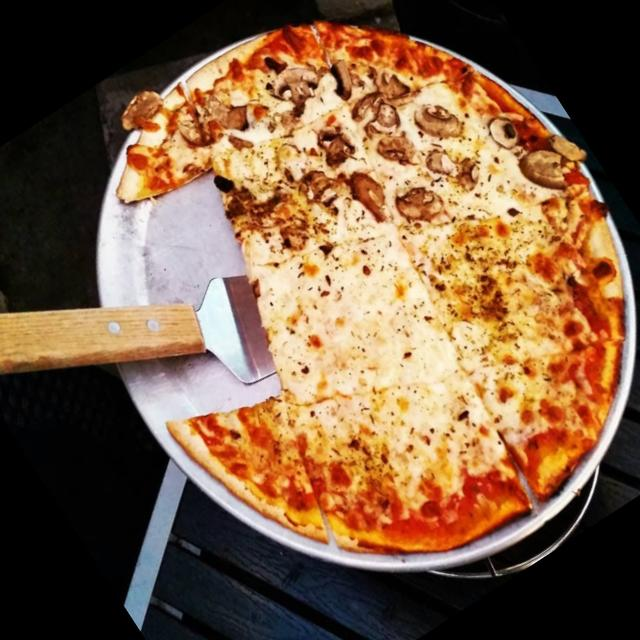mushrooms: (348, 86, 418, 167), (515, 134, 578, 200), (339, 160, 399, 228), (266, 54, 328, 115), (428, 134, 487, 196), (171, 90, 231, 148), (391, 171, 446, 228), (298, 160, 349, 219), (410, 88, 463, 144), (308, 115, 358, 171), (368, 59, 418, 112), (483, 106, 530, 154), (324, 52, 366, 100)
pizza: (115, 21, 635, 555)
